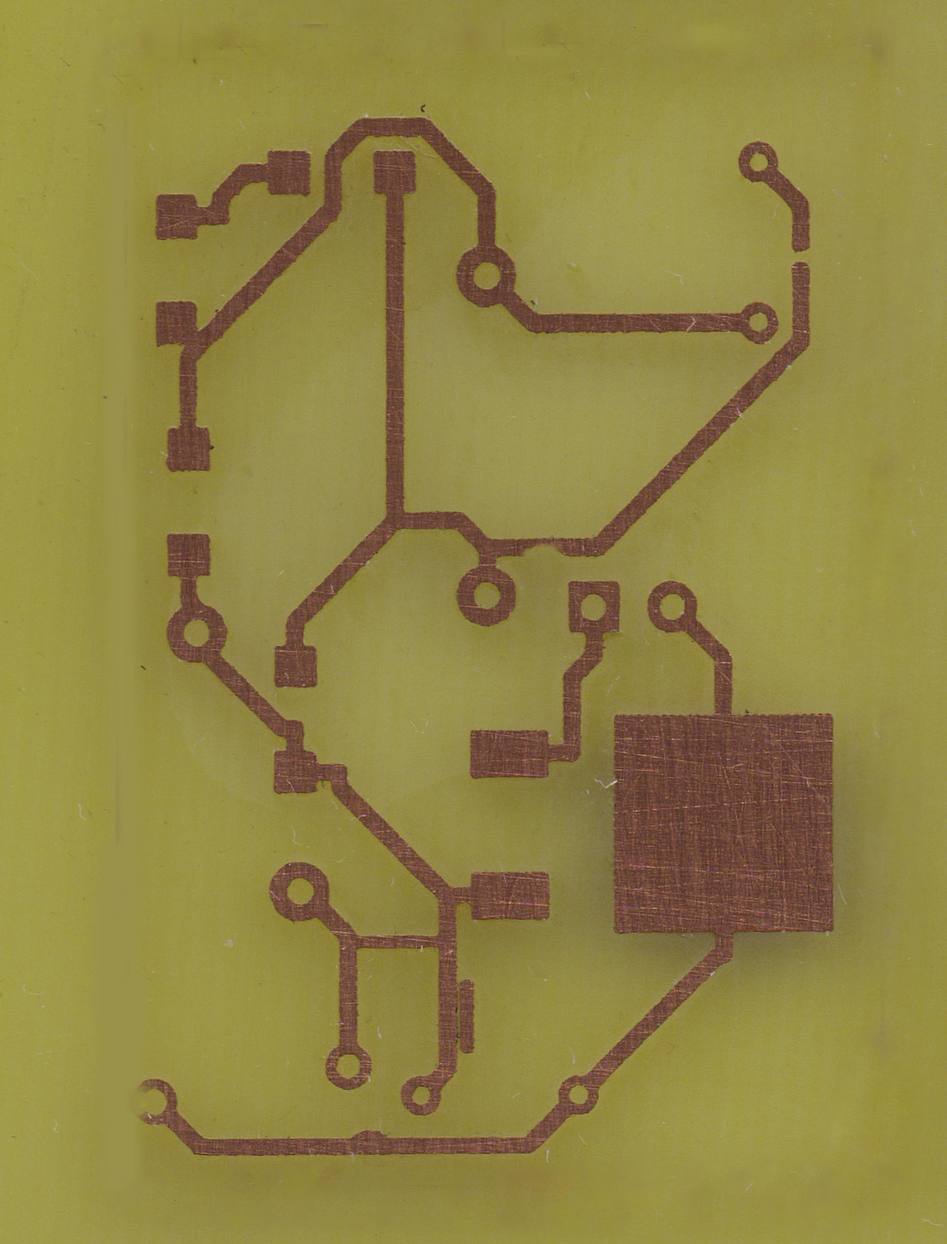missing_hole: (129, 1078, 179, 1126)
mouse_bite: (519, 537, 568, 558)
open_circuit: (791, 240, 812, 272)
short: (340, 929, 457, 955)
spur: (348, 1127, 390, 1155)
spurious_copper: (458, 979, 477, 1055)
